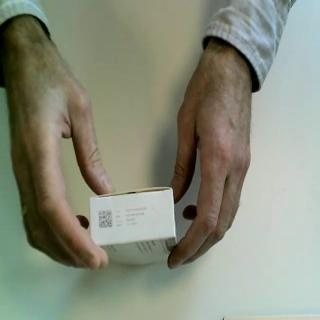dolcontin5mg: (89, 185, 181, 270)
